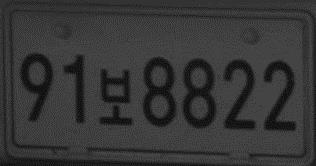1: (63, 53, 86, 125)
2: (262, 58, 298, 132), (222, 57, 256, 131)
8: (182, 56, 217, 130), (141, 56, 176, 128)
9: (19, 51, 53, 124)
보: (97, 66, 134, 127)
